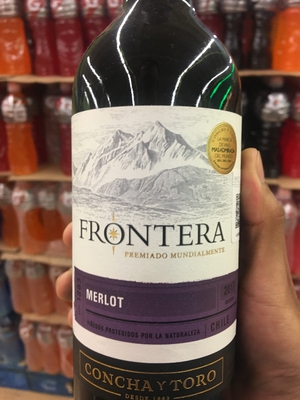frontera merlot: (64, 9, 249, 400)
